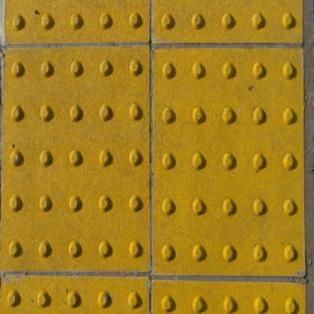Podoctatil: (4, 1, 304, 312)
